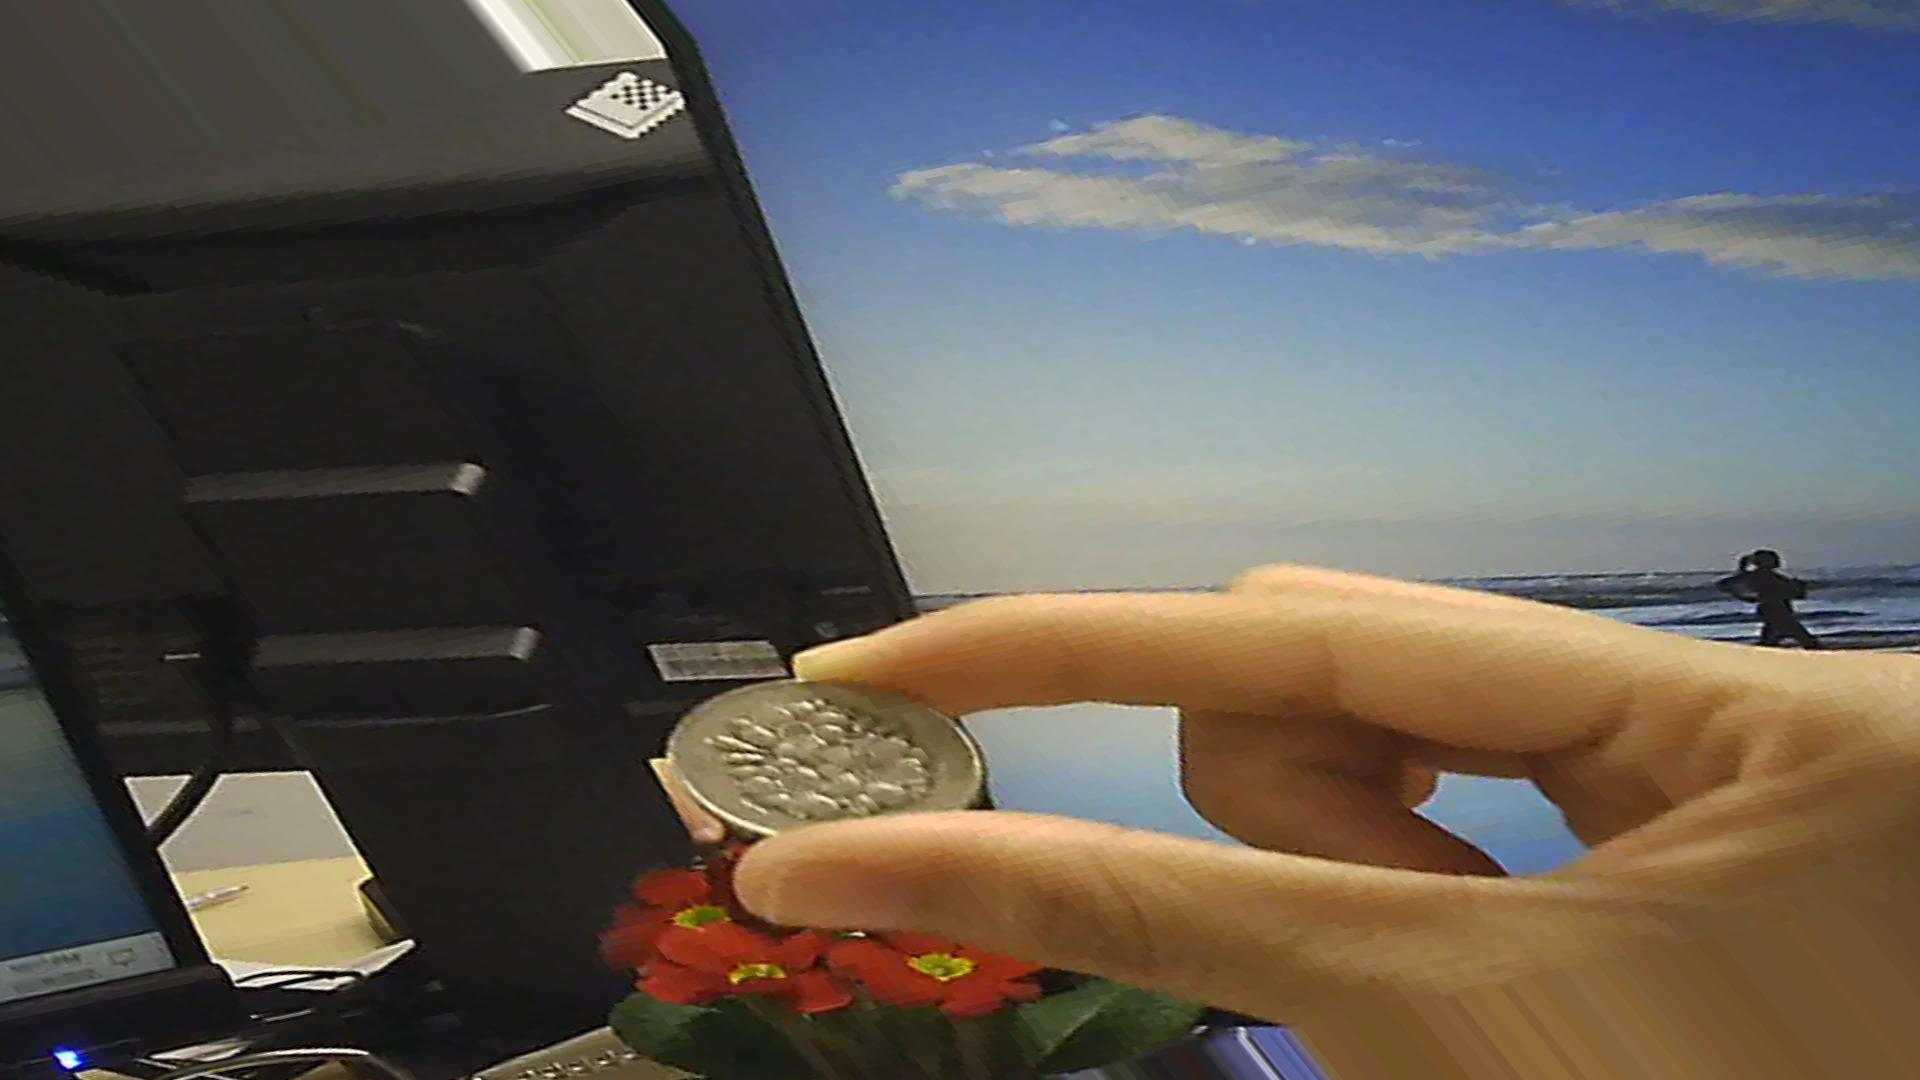100 Yen: (670, 671, 990, 866)
